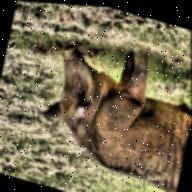boar: (23, 2, 192, 192)
